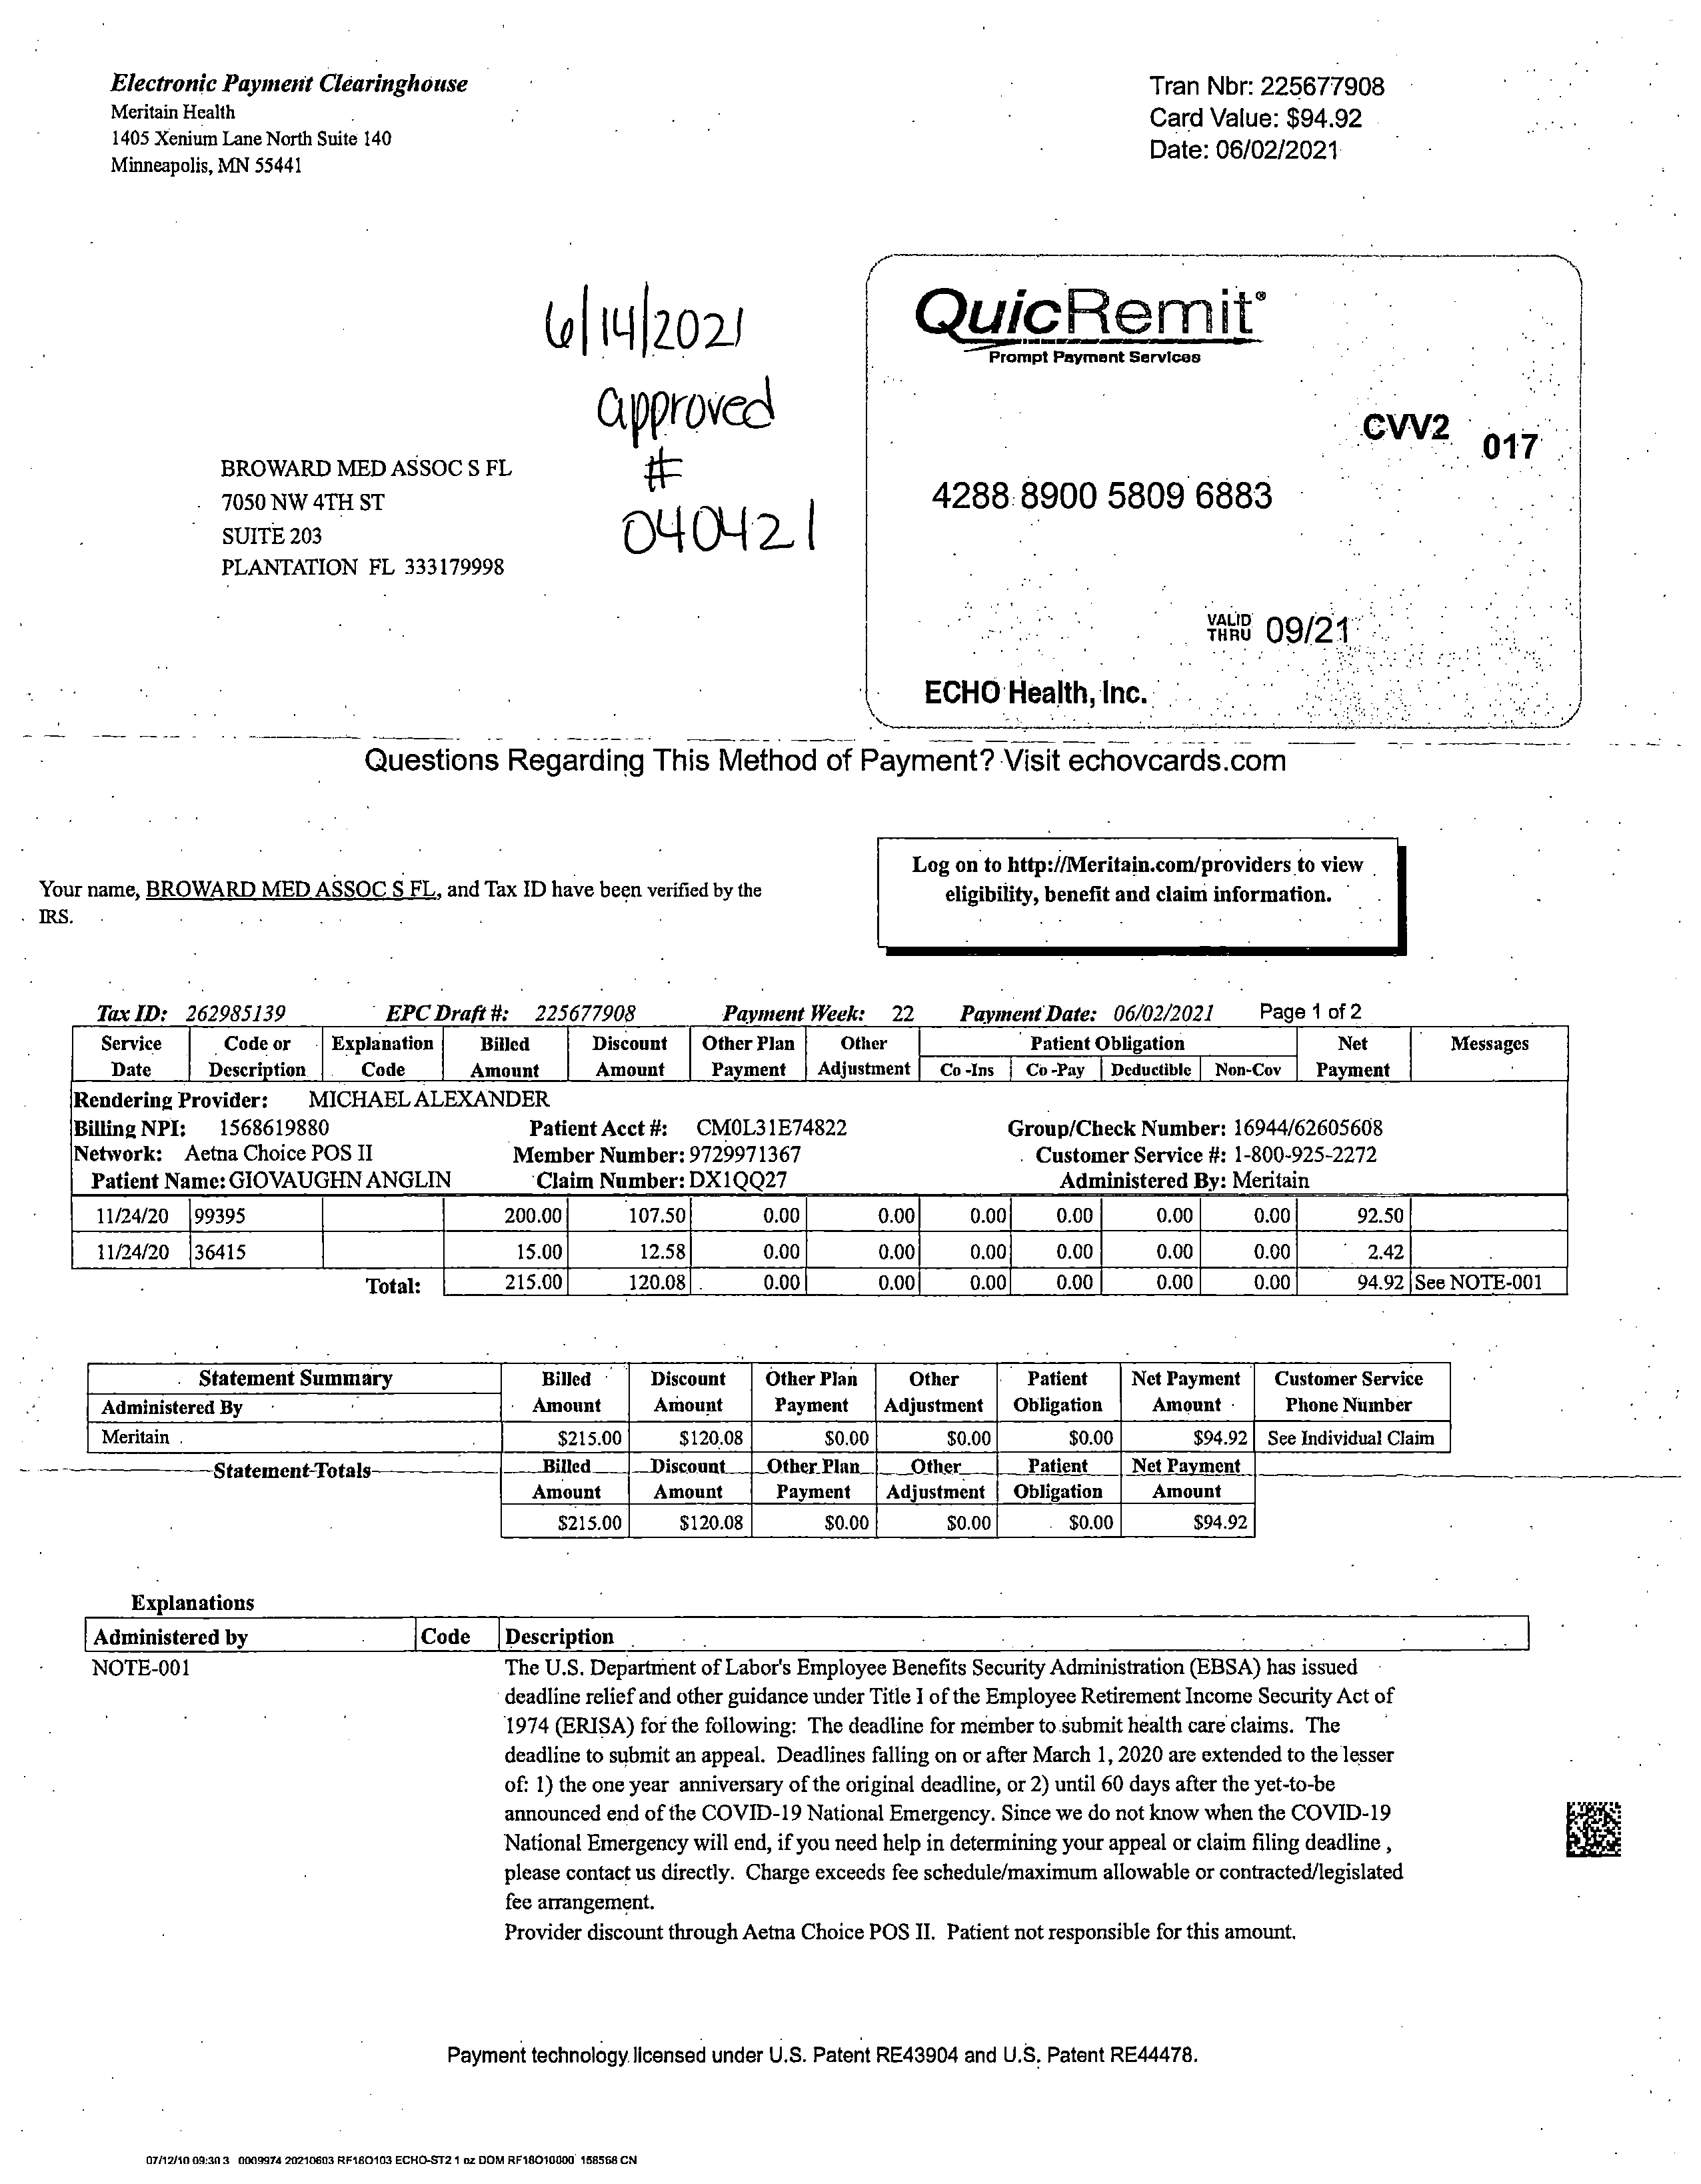data: (66, 1083, 1425, 1191), (206, 431, 535, 599)
table: (62, 1019, 1584, 1296), (67, 1347, 1464, 1555)
